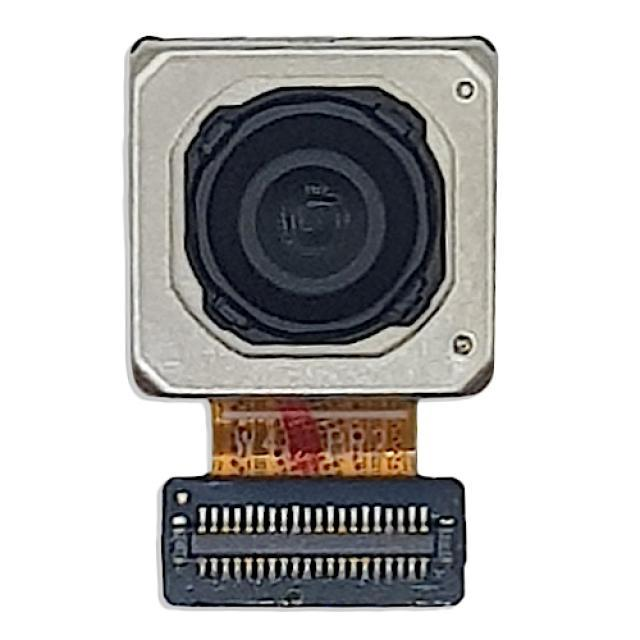hidden camera: (191, 103, 450, 348)
